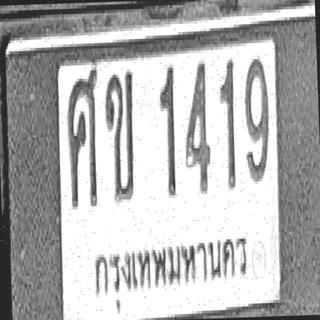A02: (103, 69, 136, 200)
A38: (65, 63, 101, 205)
N01: (218, 56, 237, 189), (158, 63, 177, 194)
N04: (182, 58, 211, 192)
N09: (242, 54, 270, 180)
P04: (86, 229, 252, 310)
